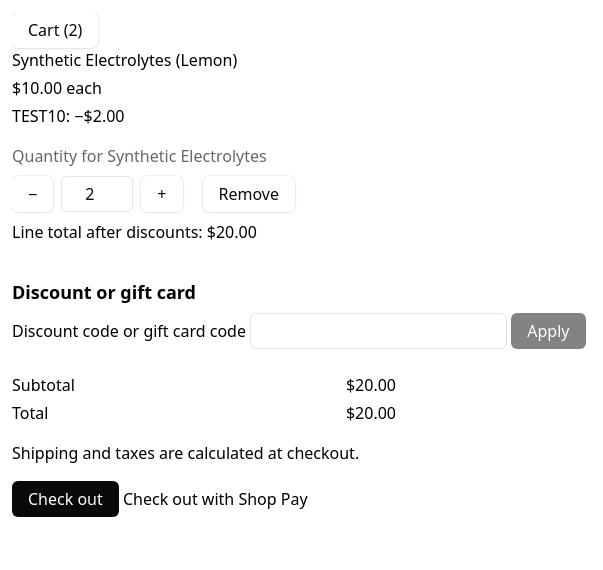
Test case: cart › applies a discount code and lists it
Expected: the button with aria-label "Cart, 2 items" is shown, [12,12,98,48]
Type " TEST10 " into the field labelled "Discount code or gift card code".
click(379, 331); type(" TEST10 ")  # box [250,313,507,349]
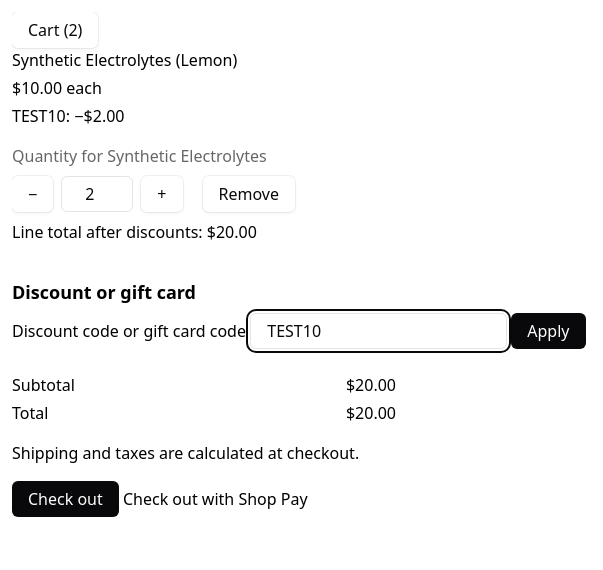
Click the button "Apply".
click(548, 331)  # box [511,313,586,349]
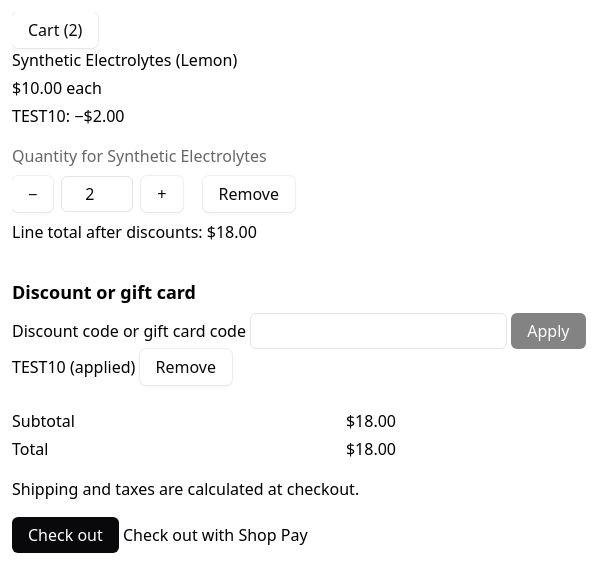
Result: the list item "TEST10 (applied) Remove" is shown at [12,349,232,385]
Result: the field labelled "Discount code or gift card code" is empty at [250,313,507,349]
